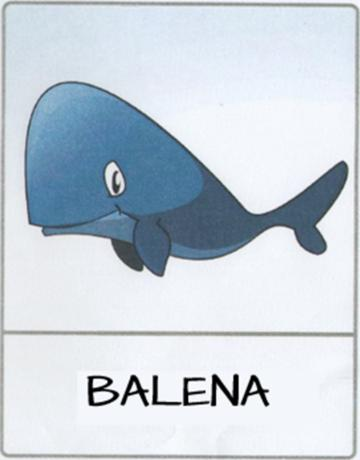balena: (2, 1, 360, 460)
